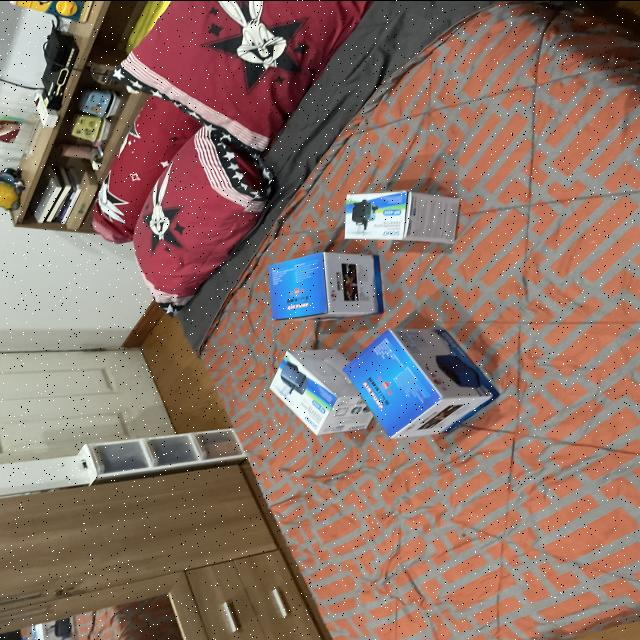SOBO_WP_4200: (248, 337, 378, 451), (336, 180, 468, 248)
YAMANO_LPP_20: (338, 316, 501, 452), (250, 233, 392, 333)
